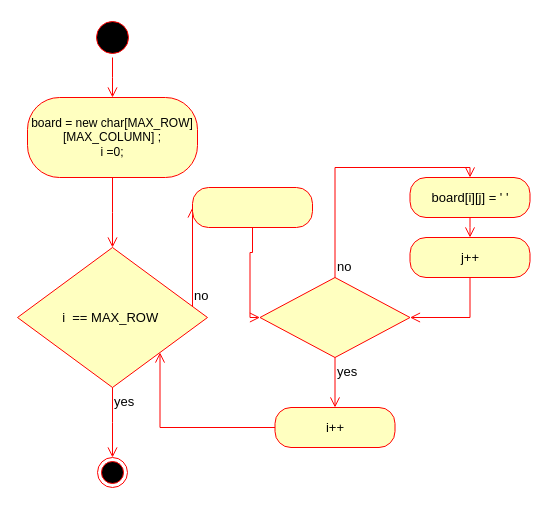
The diagram is 548 pixels wide and 505 high, and some of its shapes have lost their labels. Here are the shapes that lost their labels. From the top down, the box of each, then its label:
(192, 186, 312, 228): j = 0;
(259, 276, 410, 358): j == MAX_COLUMN
